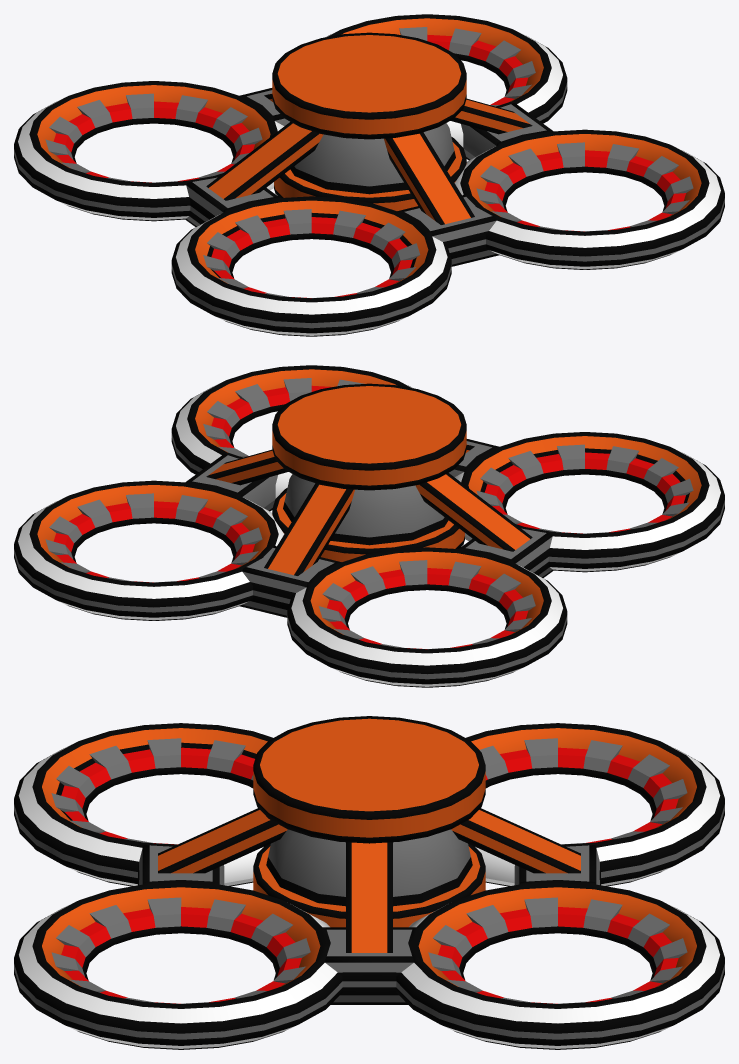
The model's file is Player Hover Mech Debris.fbx.
The picture shows the model from 3 angles, top to bottom: view 1: azimuth 30°, elevation 25°; view 2: azimuth 150°, elevation 25°; view 3: azimuth 270°, elevation 25°; orthographic projection. The views are drawn at different scales.
Parts seen in each view (by area): view 1: Hover Chassis Base, Hover Chassis Pivot.013, Hover Chassis Pivot.012, Hover Chassis Pivot.011, Hover Chassis Propeller 3, Hover Chassis Propeller 2, Hover Chassis Propeller 4, Hover Chassis Pivot.001, Hover Chassis Pivot, Hover Chassis Pivot.005, Hover Chassis Pivot.002, Hover Chassis Propeller 1 (+6 smaller); view 2: Hover Chassis Base, Hover Chassis Pivot.011, Hover Chassis Pivot.001, Hover Chassis Pivot.013, Hover Chassis Propeller 4, Hover Chassis Propeller 1, Hover Chassis Propeller 3, Hover Chassis Pivot.012, Hover Chassis Pivot, Hover Chassis Pivot.004, Hover Chassis Pivot.002, Hover Chassis Propeller 2 (+6 smaller); view 3: Hover Chassis Base, Hover Chassis Pivot.012, Hover Chassis Pivot.001, Hover Chassis Pivot.013, Hover Chassis Pivot.011, Hover Chassis Propeller 2, Hover Chassis Propeller 1, Hover Chassis Pivot, Hover Chassis Propeller 4, Hover Chassis Propeller 3, Hover Chassis Pivot.003, Hover Chassis Pivot.008 (+5 smaller).
Part boxes in pixels (<box>): Hover Chassis Base: <box>272,32,466,139</box>; Hover Chassis Pivot.013: <box>171,196,451,336</box>; Hover Chassis Pivot.012: <box>454,129,724,269</box>; Hover Chassis Pivot.011: <box>14,81,284,221</box>; Hover Chassis Propeller 3: <box>203,209,420,298</box>; Hover Chassis Propeller 2: <box>476,142,693,231</box>; Hover Chassis Propeller 4: <box>45,93,262,182</box>; Hover Chassis Pivot.001: <box>326,14,567,147</box>; Hover Chassis Pivot: <box>290,123,455,194</box>; Hover Chassis Pivot.005: <box>384,132,474,224</box>; Hover Chassis Pivot.002: <box>206,122,323,200</box>; Hover Chassis Propeller 1: <box>399,27,535,106</box>; Hover Chassis Base: <box>272,383,466,490</box>; Hover Chassis Pivot.011: <box>287,547,567,687</box>; Hover Chassis Pivot.001: <box>14,480,284,620</box>; Hover Chassis Pivot.013: <box>454,432,724,572</box>; Hover Chassis Propeller 4: <box>318,560,535,649</box>; Hover Chassis Propeller 1: <box>45,493,262,582</box>; Hover Chassis Propeller 3: <box>476,444,693,533</box>; Hover Chassis Pivot.012: <box>171,365,412,498</box>; Hover Chassis Pivot: <box>283,474,448,545</box>; Hover Chassis Pivot.004: <box>264,483,354,575</box>; Hover Chassis Pivot.002: <box>415,473,532,551</box>; Hover Chassis Propeller 2: <box>203,378,364,457</box>; Hover Chassis Base: <box>253,716,485,843</box>; Hover Chassis Pivot.012: <box>14,880,342,1049</box>; Hover Chassis Pivot.001: <box>396,880,724,1049</box>; Hover Chassis Pivot.013: <box>14,723,272,886</box>; Hover Chassis Pivot.011: <box>466,723,724,886</box>; Hover Chassis Propeller 2: <box>51,897,310,1003</box>; Hover Chassis Propeller 1: <box>428,897,687,1003</box>; Hover Chassis Pivot: <box>266,829,472,906</box>; Hover Chassis Propeller 4: <box>479,738,687,844</box>; Hover Chassis Propeller 3: <box>51,738,254,844</box>; Hover Chassis Pivot.003: <box>346,842,392,952</box>; Hover Chassis Pivot.008: <box>325,927,413,1004</box>.
Bounding box in the file's own units: 3.02 × 3.02 × 0.6768.
